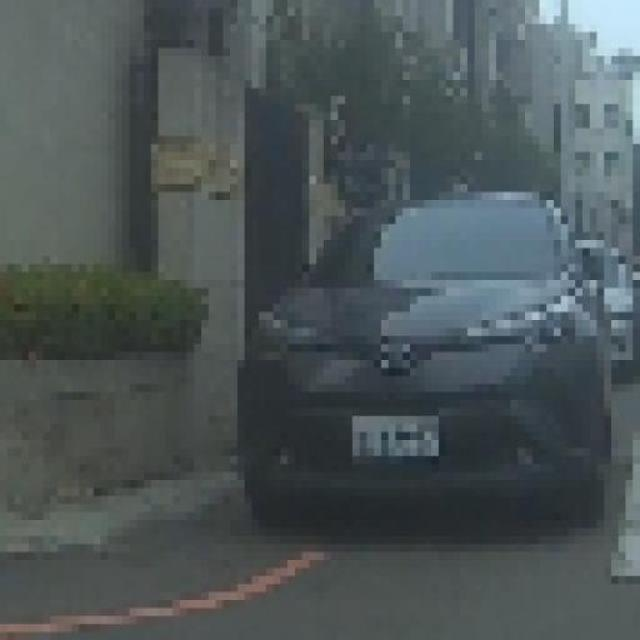Legalparking: (212, 116, 632, 576)
